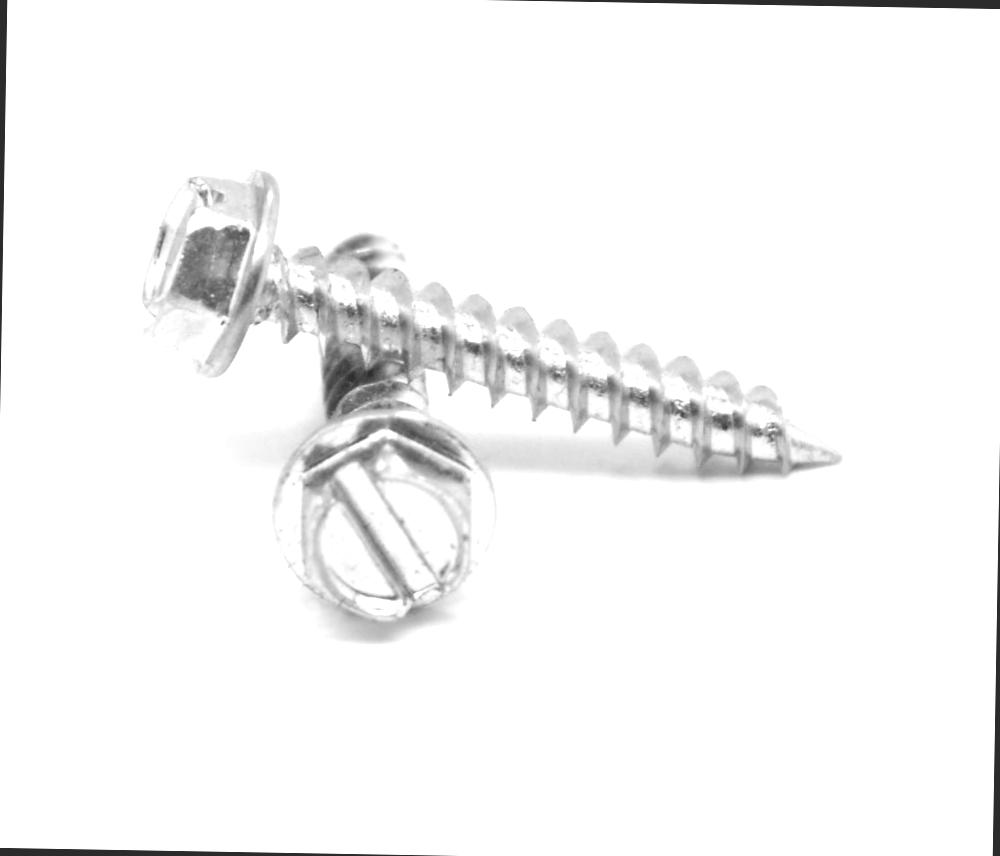screw: (272, 408, 500, 636)
